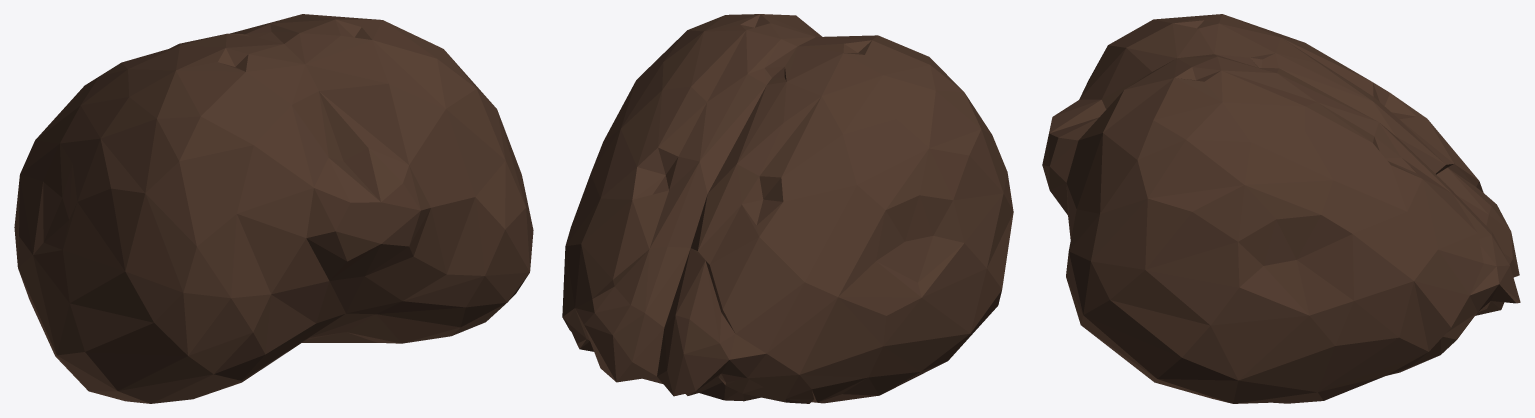
The model's file is ant-head.dae.
3 views of the same model, side by side, from view 1: azimuth 30°, elevation 25°; view 2: azimuth 150°, elevation 25°; view 3: azimuth 270°, elevation 25° (orthographic). The views are drawn at different scales.
Visible parts, largest first — view 1: ant-head; view 2: ant-head; view 3: ant-head.
Part boxes in pixels (x1=…): ant-head: x1=14, y1=14, x2=533, y2=403; ant-head: x1=562, y1=14, x2=1013, y2=403; ant-head: x1=1042, y1=14, x2=1520, y2=403.
Bounding box in the file's own units: 5.03 × 5.48 × 3.78.
